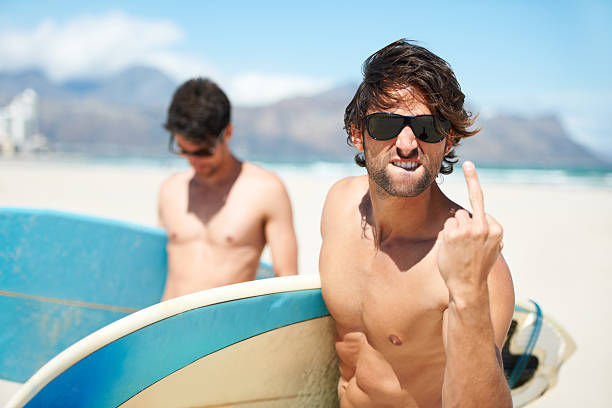insulting_gesture: (432, 159, 504, 282)
